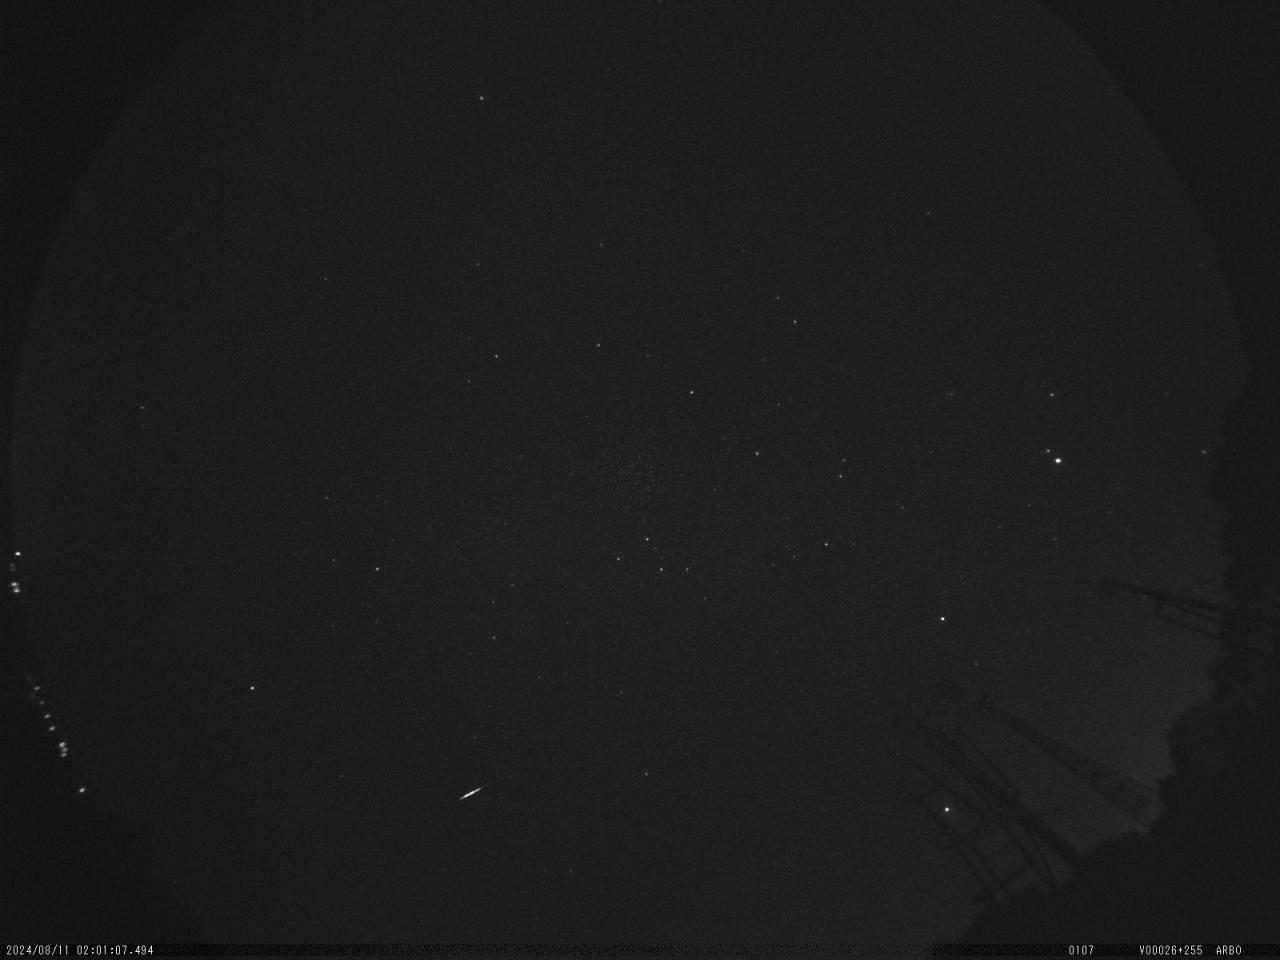Meteor: (457, 782, 485, 802)
